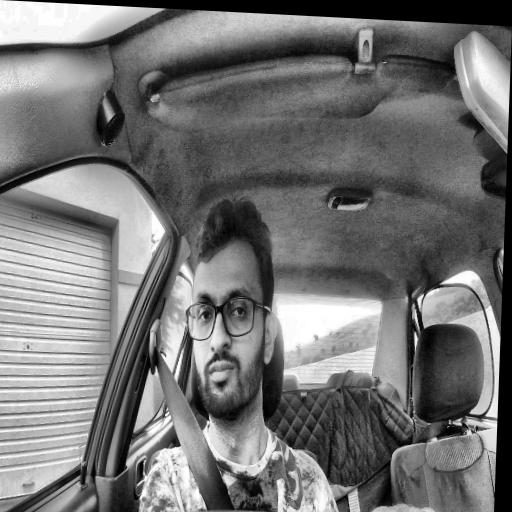awake: (182, 194, 281, 429)
